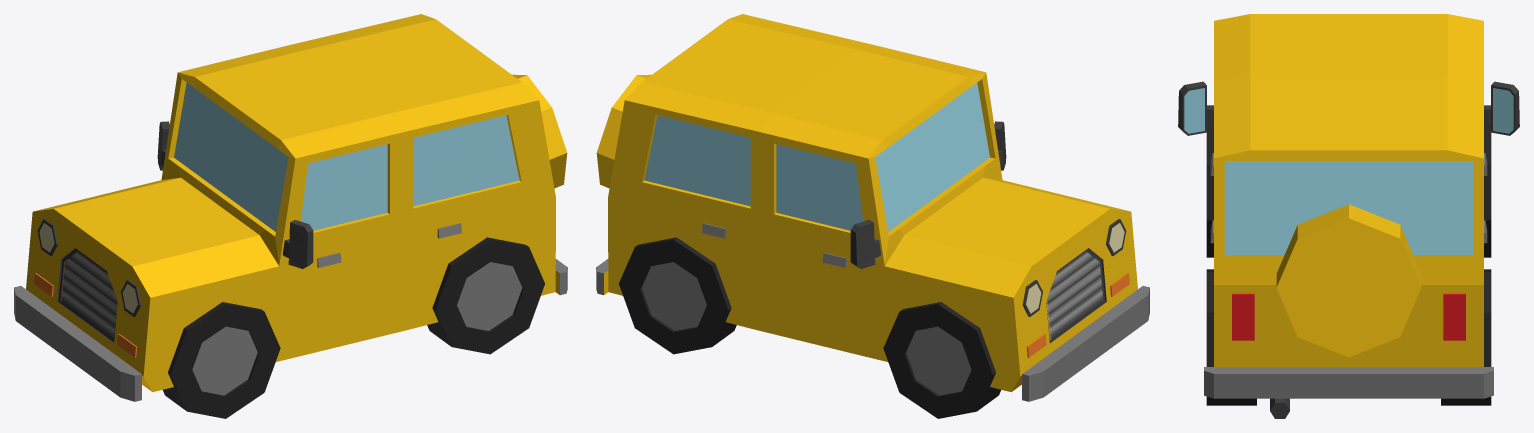
Rendered from car.glb.
The picture shows the model from 3 angles, left to right: view 1: azimuth 30°, elevation 25°; view 2: azimuth 150°, elevation 25°; view 3: azimuth 270°, elevation 25°; orthographic projection. The views are drawn at different scales.
Parts seen in each view (by area): view 1: car, back wheels, front wheels; view 2: car, back wheels, front wheels; view 3: car, back wheels, front wheels.
Part boxes in pixels (x1=…): car: x1=14, y1=14, x2=567, y2=401; back wheels: x1=427, y1=237, x2=544, y2=354; front wheels: x1=163, y1=302, x2=280, y2=418; car: x1=596, y1=14, x2=1149, y2=401; back wheels: x1=619, y1=237, x2=736, y2=354; front wheels: x1=883, y1=302, x2=1000, y2=418; car: x1=1178, y1=14, x2=1519, y2=418; back wheels: x1=1206, y1=269, x2=1491, y2=405; front wheels: x1=1206, y1=125, x2=1491, y2=257.
Size of the model in its own units: 5.19 by 2.57 by 2.82.
Materials: 1 (1 with a texture image).
